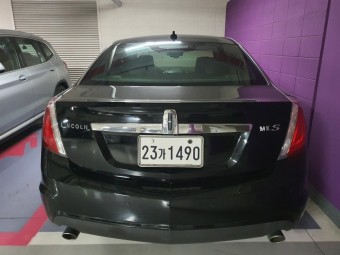car: (135, 134, 207, 169)
